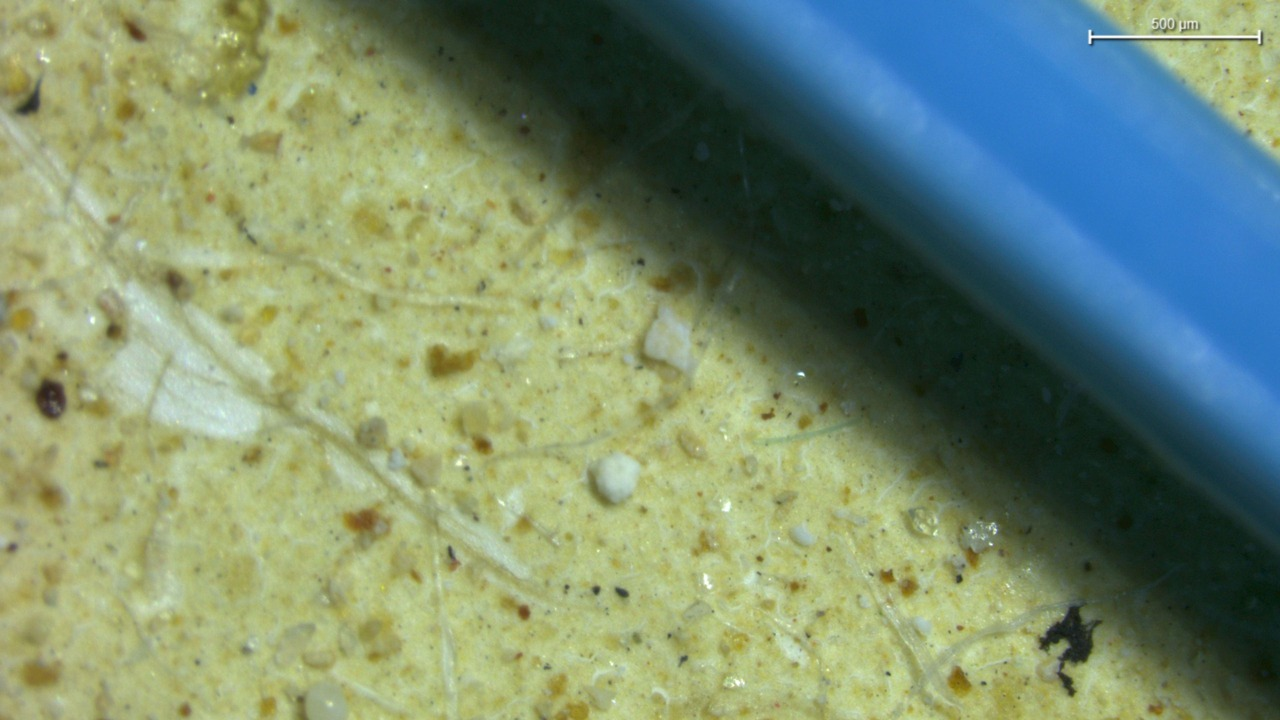microplastic_fragment: (644, 302, 689, 376), (599, 455, 640, 504)
